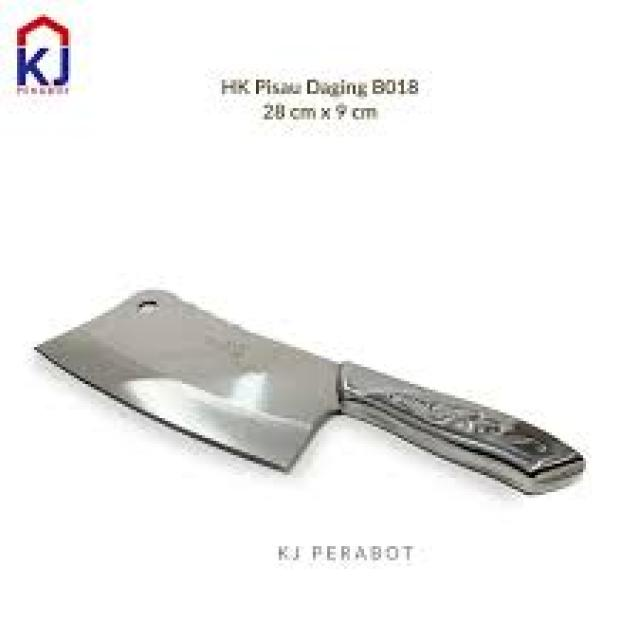Knife: (31, 287, 586, 495)
